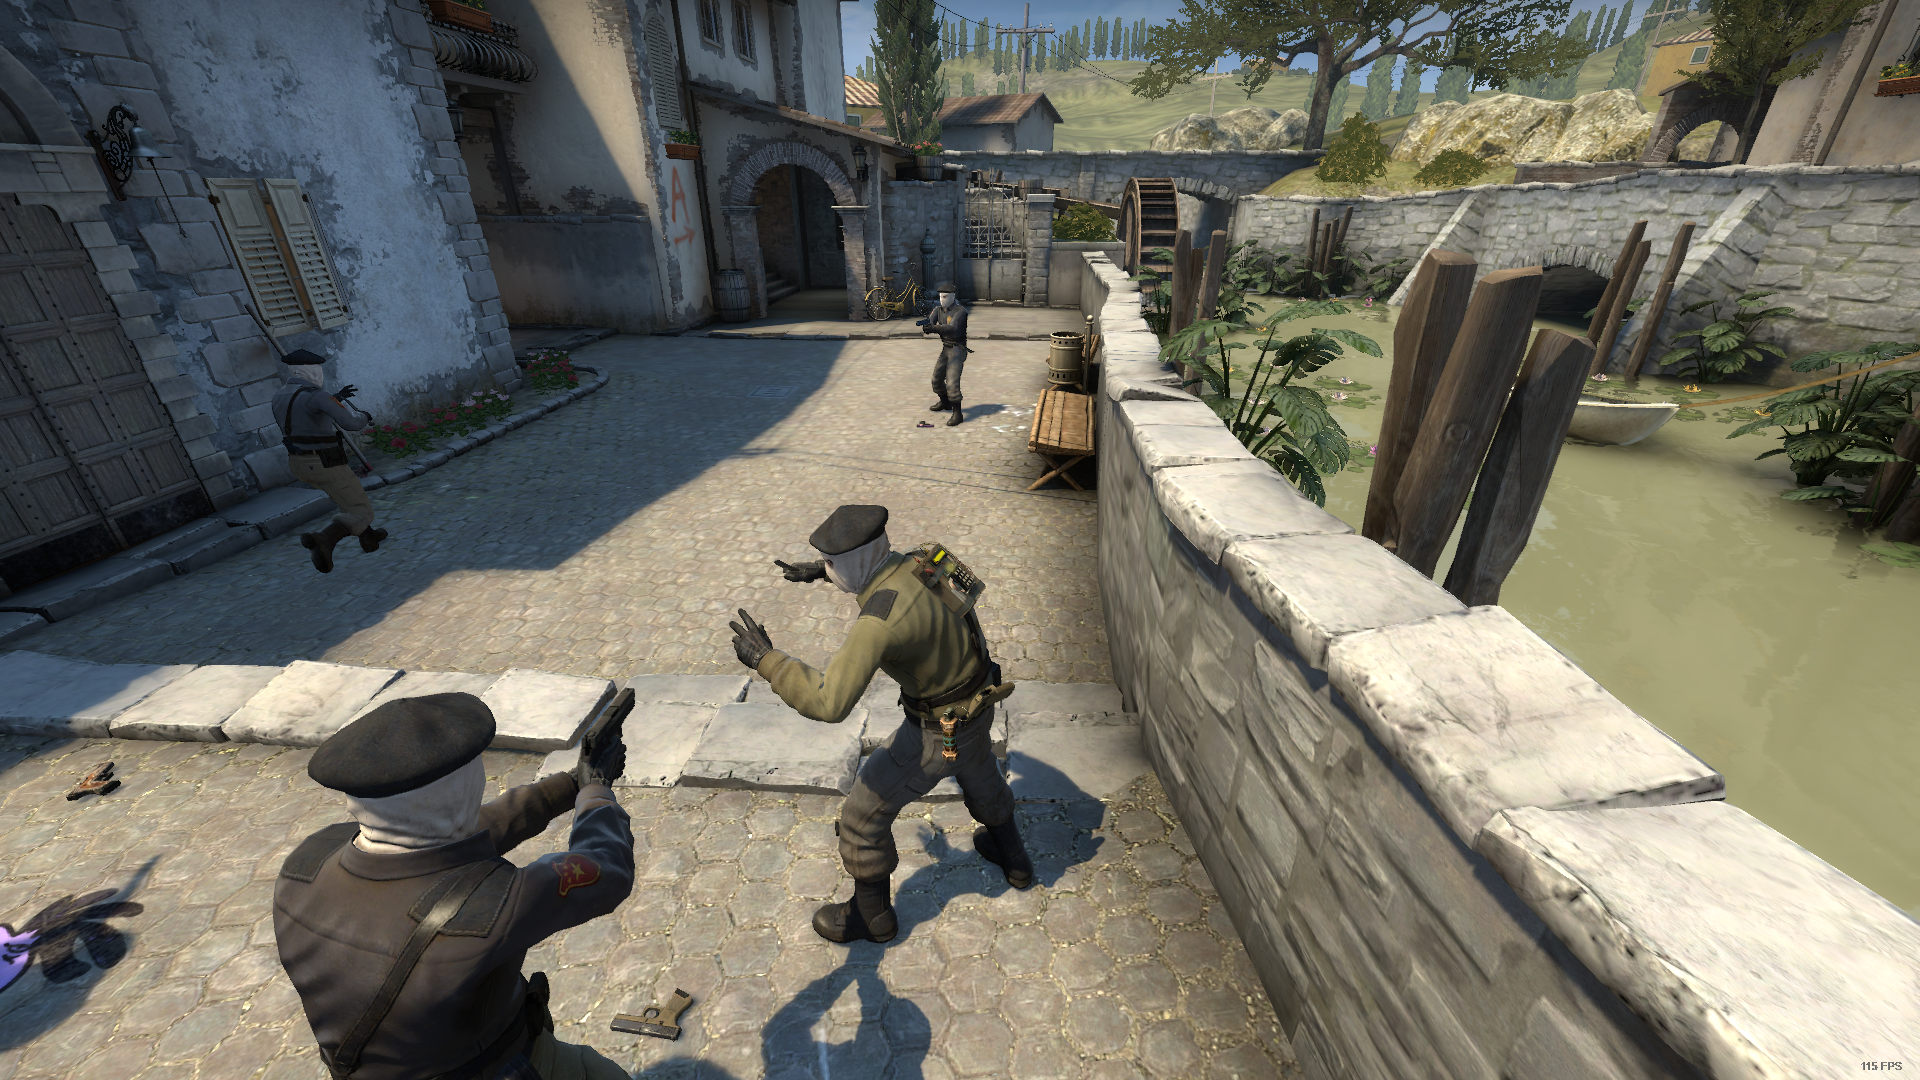t: (278, 694, 640, 1080), (728, 505, 1036, 945), (274, 347, 388, 574), (920, 282, 971, 426)
